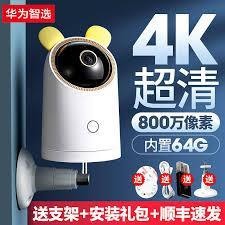maru: (37, 26, 132, 183)
